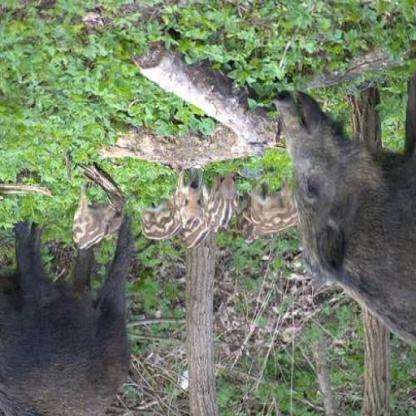boar: (266, 71, 415, 339), (0, 248, 154, 411)
